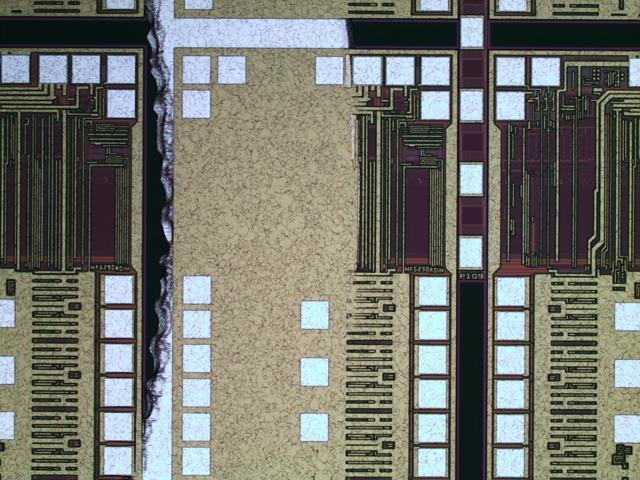BLOCK ETCH: (141, 1, 362, 480)
